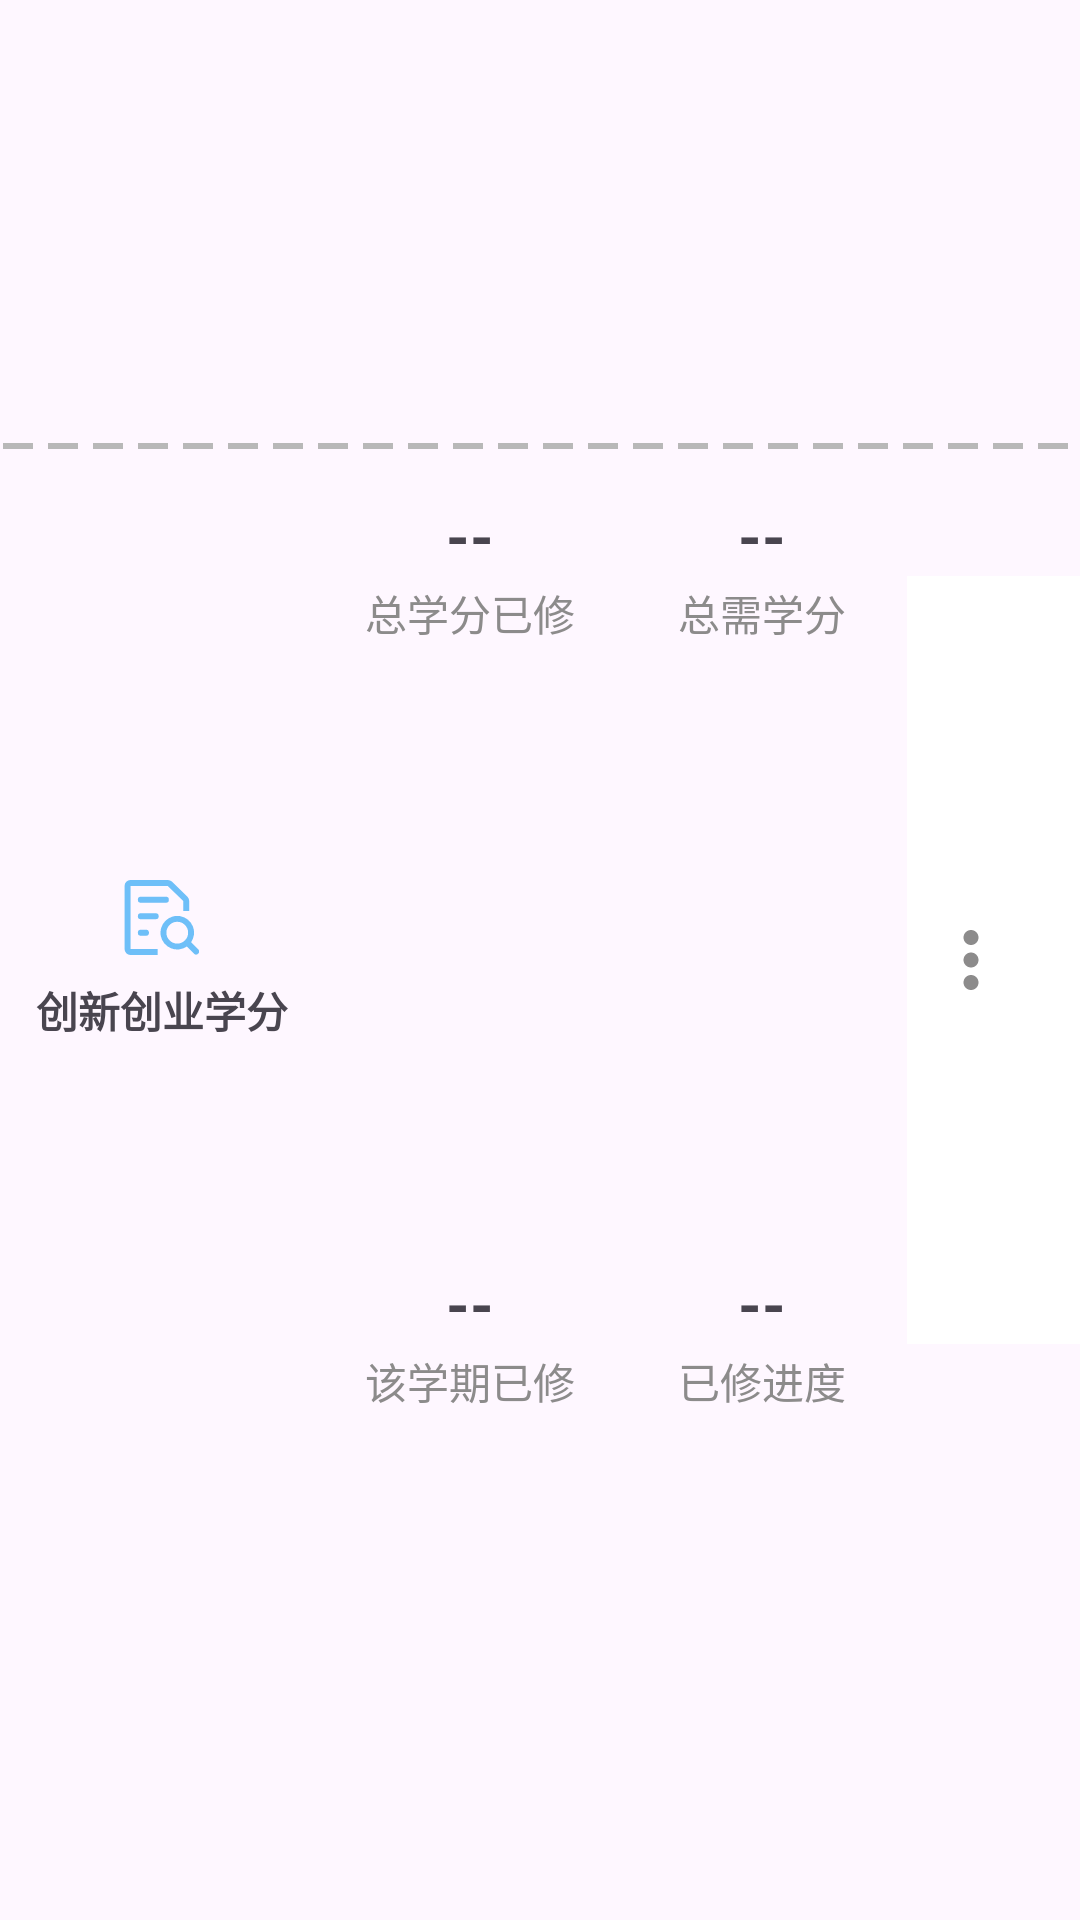

Icons on this 1080px x 1920px Android screen, each with the point to tap as point (x, y):
更多选项: point (971, 960)
